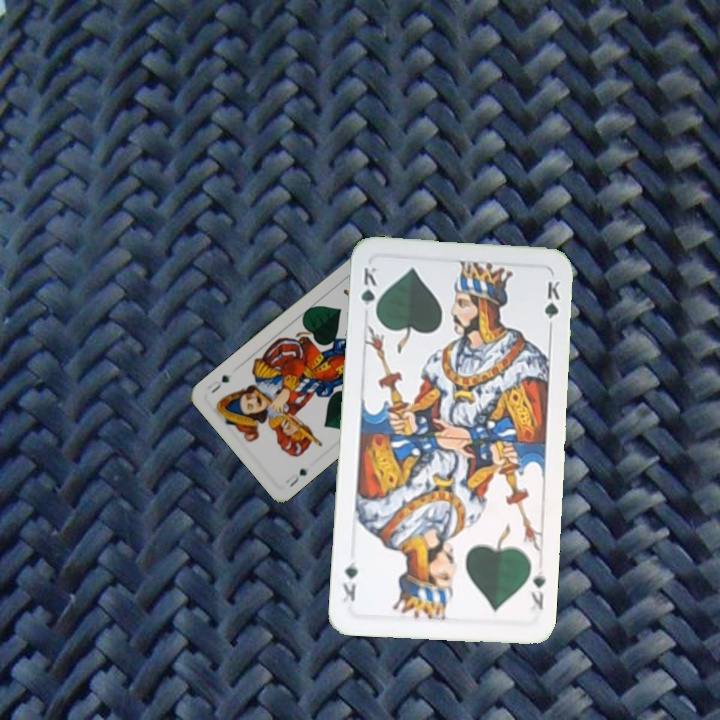GK: (356, 263, 379, 320), (527, 566, 548, 612)
GU: (281, 464, 310, 490)
